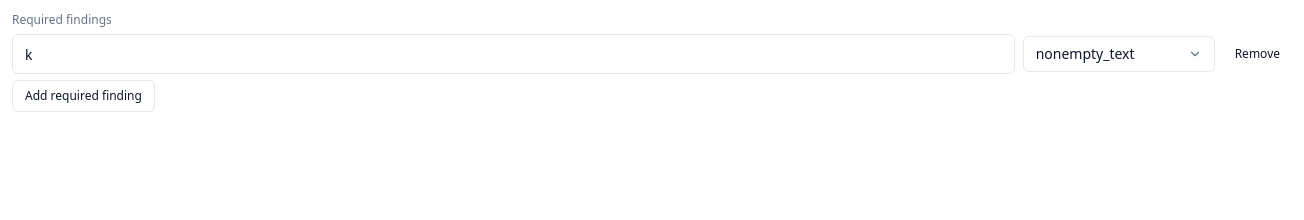
Test: StepRequiredFindingsEditor › offers exactly the 3 known schema options in the dropdown
The image size is (1304, 220).
Click the button "nonempty_text" at coordinates (1119, 54), box [1023,36,1215,72]
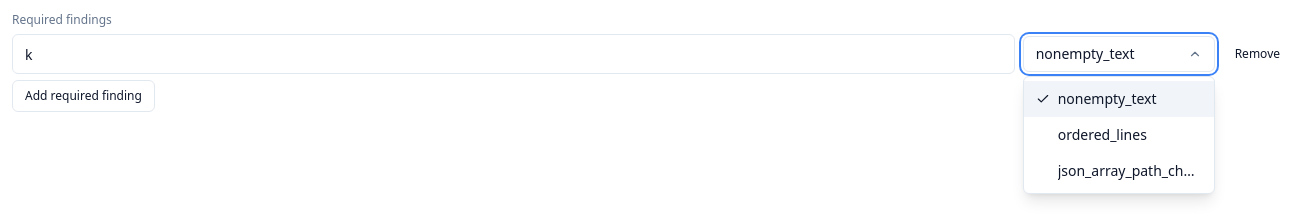
Expected: the text "ordered_lines" is shown, [1058,125,1147,145]
Expected: the text "json_array_path_change" is shown, [1058,161,1202,181]
